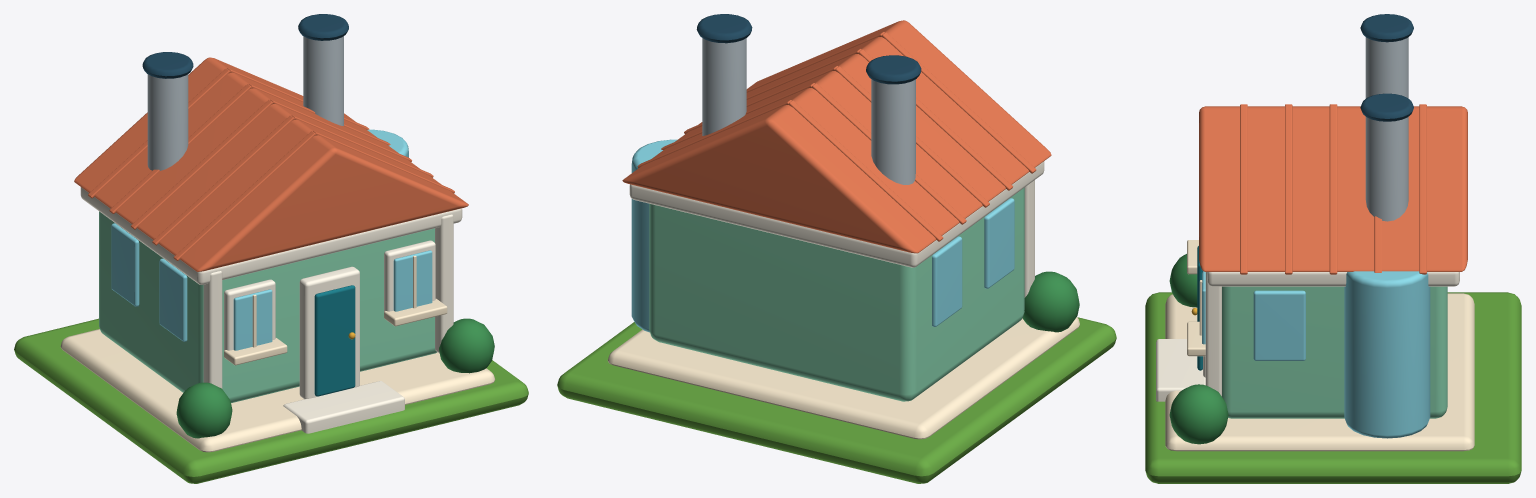
File: factory.fbx
The picture shows the model from 3 angles, left to right: view 1: azimuth 30°, elevation 25°; view 2: azimuth 150°, elevation 25°; view 3: azimuth 270°, elevation 25°; orthographic projection. The views are drawn at different scales.
Parts seen in each view (by area): view 1: Roof.005, Plaster facade.005, Raised garden plot.005, Paved foundation.005, Cornice.005, Entrance.005, Vent stack, Entrance step.005, Door frame.005, Vent stack.001, Clipped shrub.010, Clipped shrub.011 (+17 smaller); view 2: Plaster facade.005, Roof.005, Raised garden plot.005, Paved foundation.005, Cornice.005, Vent stack, Vent stack.001, Cooling tank, Clipped shrub.010, Side window.020, Side window.021, Chimney cap (+7 smaller); view 3: Roof.005, Raised garden plot.005, Plaster facade.005, Cooling tank, Paved foundation.005, Vent stack.001, Side window.022, Clipped shrub.011, Cornice.005, Vent stack, Entrance step.005, Corner trim.011 (+9 smaller).
Part boxes in pixels (x1=…): Roof.005: x1=74, y1=57, x2=468, y2=271; Plaster facade.005: x1=99, y1=211, x2=437, y2=403; Raised garden plot.005: x1=14, y1=318, x2=528, y2=483; Paved foundation.005: x1=60, y1=329, x2=495, y2=452; Cornice.005: x1=80, y1=187, x2=462, y2=284; Entrance.005: x1=314, y1=285, x2=355, y2=396; Vent stack: x1=147, y1=74, x2=188, y2=170; Entrance step.005: x1=283, y1=381, x2=404, y2=433; Door frame.005: x1=299, y1=266, x2=359, y2=399; Vent stack.001: x1=303, y1=36, x2=343, y2=125; Clipped shrub.010: x1=176, y1=382, x2=232, y2=438; Clipped shrub.011: x1=439, y1=318, x2=494, y2=373; Plaster facade.005: x1=649, y1=187, x2=1024, y2=401; Roof.005: x1=622, y1=20, x2=1051, y2=253; Raised garden plot.005: x1=557, y1=317, x2=1116, y2=483; Paved foundation.005: x1=607, y1=317, x2=1079, y2=439; Cornice.005: x1=629, y1=161, x2=1044, y2=267; Vent stack: x1=871, y1=79, x2=915, y2=184; Vent stack.001: x1=702, y1=38, x2=746, y2=135; Cooling tank: x1=631, y1=139, x2=677, y2=332; Clipped shrub.010: x1=1022, y1=271, x2=1079, y2=332; Side window.020: x1=984, y1=198, x2=1014, y2=288; Side window.021: x1=932, y1=236, x2=962, y2=326; Chimney cap: x1=866, y1=55, x2=921, y2=84; Roof.005: x1=1199, y1=106, x2=1467, y2=271; Raised garden plot.005: x1=1145, y1=292, x2=1521, y2=483; Plaster facade.005: x1=1222, y1=286, x2=1447, y2=418; Cooling tank: x1=1344, y1=271, x2=1430, y2=438; Paved foundation.005: x1=1165, y1=293, x2=1474, y2=451; Vent stack.001: x1=1365, y1=117, x2=1408, y2=221; Side window.022: x1=1253, y1=290, x2=1305, y2=360; Clipped shrub.011: x1=1169, y1=384, x2=1228, y2=444; Cornice.005: x1=1207, y1=272, x2=1459, y2=286; Vent stack: x1=1365, y1=37, x2=1408, y2=98; Entrance step.005: x1=1156, y1=339, x2=1205, y2=401; Corner trim.011: x1=1205, y1=272, x2=1221, y2=396.
Bounding box in the file's own units: 3.1 × 2.77 × 2.8.
